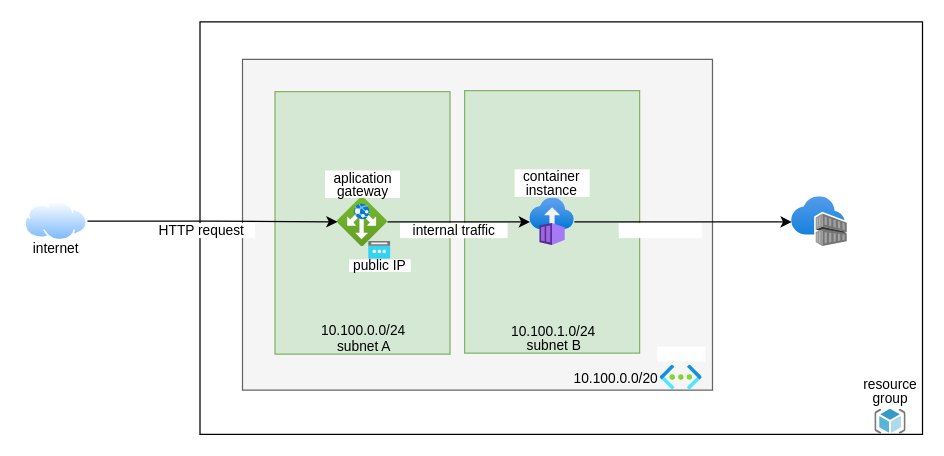
Image size: 944x456. Some labels were removed from this diagram. Each missing label, with the centre of its shape:
pulls image: (660,230)
registry: (819,253)
vnet: (681,353)
